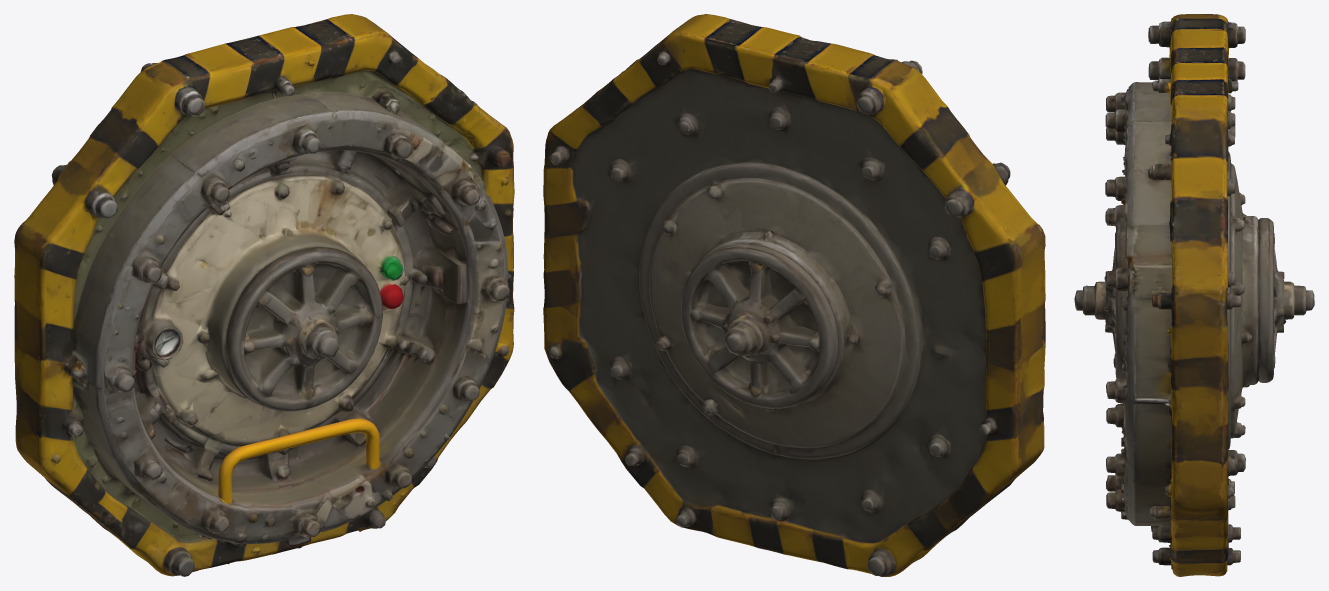
The model's file is shuttle_eva_hatch.glb.
3 views of the same model, side by side, from view 1: azimuth 30°, elevation 25°; view 2: azimuth 150°, elevation 25°; view 3: azimuth 270°, elevation 25° (orthographic). The views are drawn at different scales.
Parts seen in each view (by area): view 1: tripo_node_bf98d66a-e355-4fbc-a6f2-4aee6bb14e19; view 2: tripo_node_bf98d66a-e355-4fbc-a6f2-4aee6bb14e19; view 3: tripo_node_bf98d66a-e355-4fbc-a6f2-4aee6bb14e19.
Boxes of the visible parts, x1,y1,x2,y2 form: tripo_node_bf98d66a-e355-4fbc-a6f2-4aee6bb14e19: [14, 14, 514, 576]; tripo_node_bf98d66a-e355-4fbc-a6f2-4aee6bb14e19: [543, 14, 1045, 576]; tripo_node_bf98d66a-e355-4fbc-a6f2-4aee6bb14e19: [1074, 14, 1314, 576].
Bounding box in the file's own units: 0.9797 × 0.9785 × 0.4525.
Materials: 1 (1 with a texture image).
